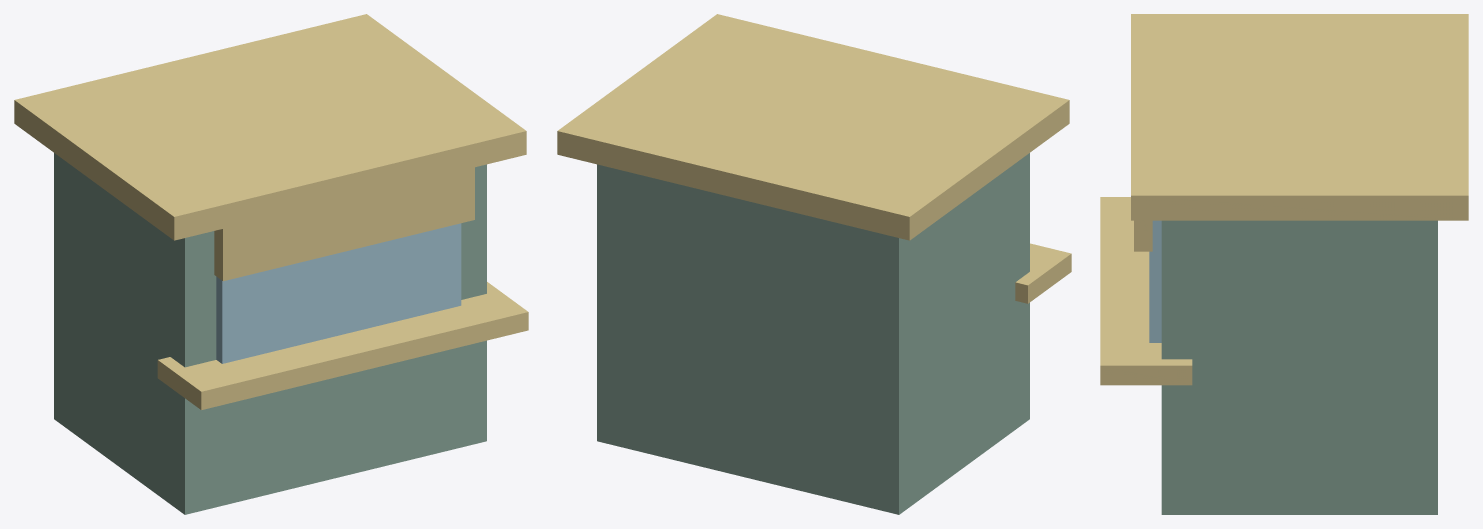
Rendered from kiosk.glb.
3 views of the same model, side by side, from view 1: azimuth 30°, elevation 25°; view 2: azimuth 150°, elevation 25°; view 3: azimuth 270°, elevation 25° (orthographic). The views are drawn at different scales.
Visible parts, largest first — view 1: kiosk; view 2: kiosk; view 3: kiosk.
Boxes of the visible parts, <box> form: kiosk: <box>14,14,528,514</box>; kiosk: <box>557,14,1071,514</box>; kiosk: <box>1100,14,1468,514</box>.
Bounding box in the file's own units: 2.8 × 2.39 × 2.4.
